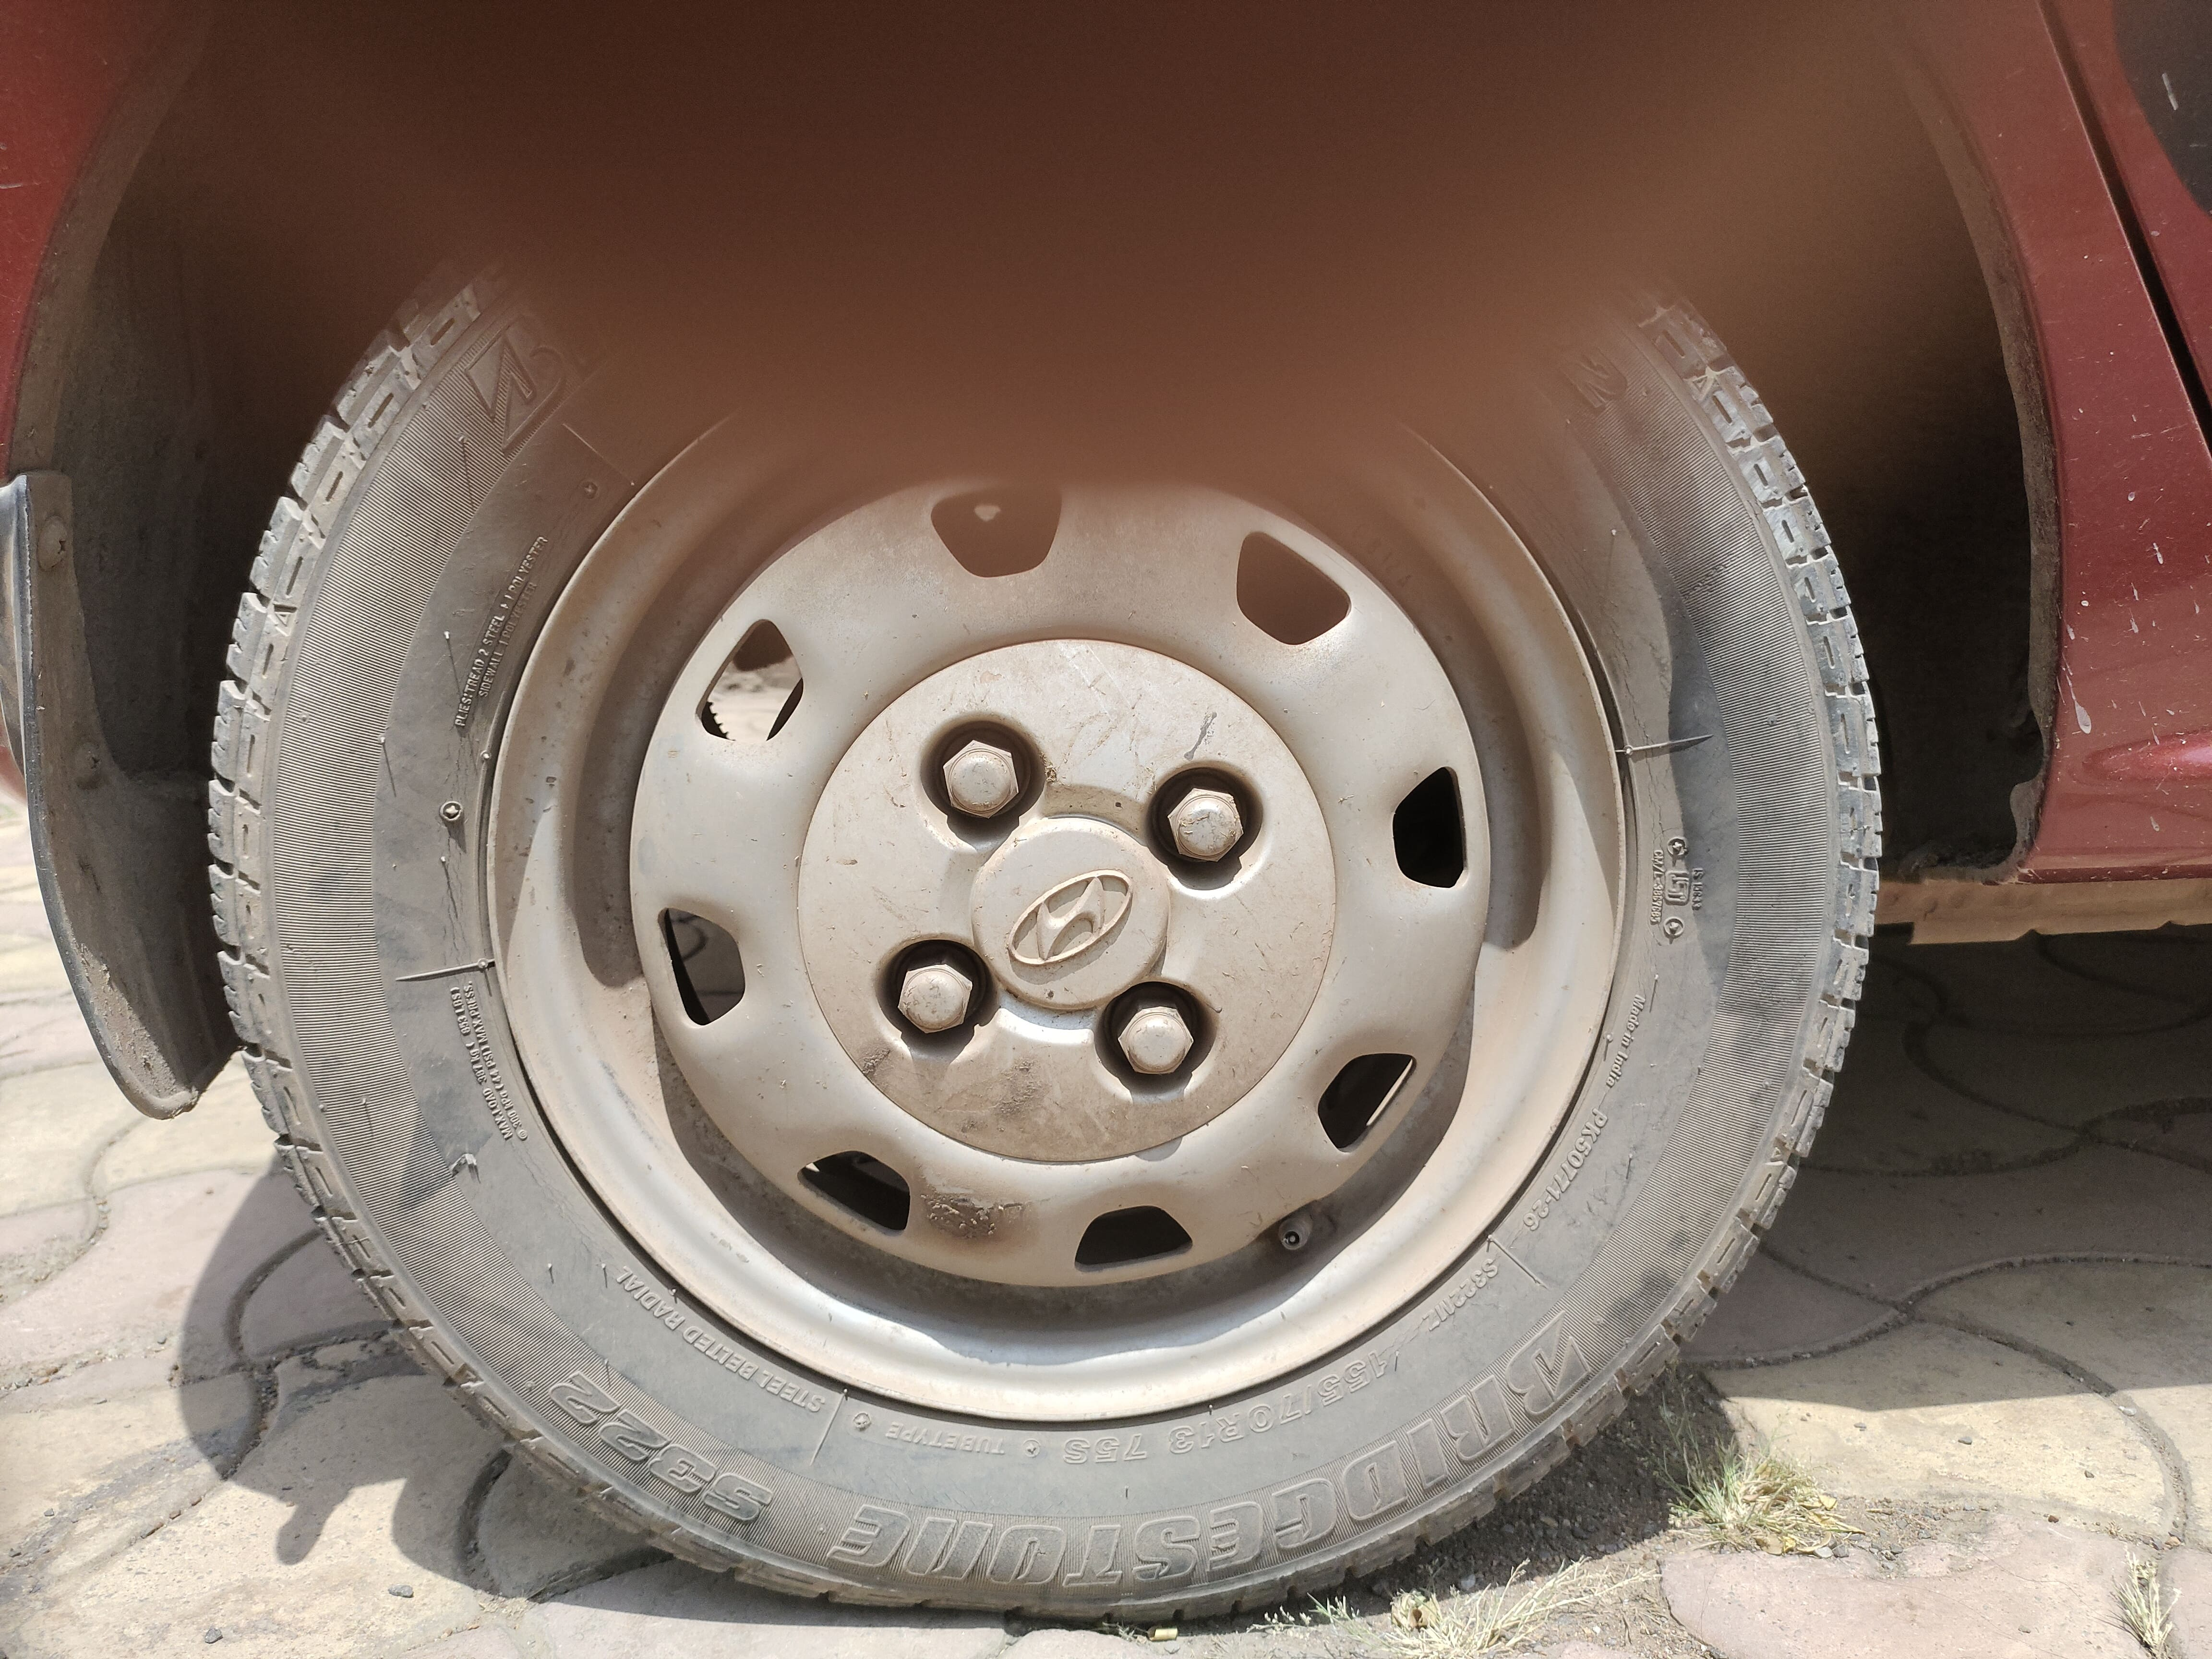l: (869, 917, 1008, 1072), (1127, 756, 1271, 904), (914, 718, 1040, 856), (1096, 964, 1217, 1103)
